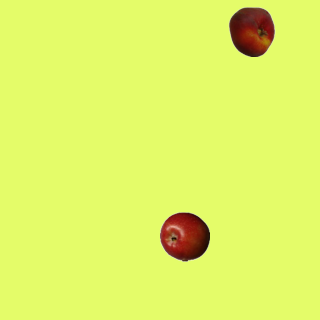Apple Braeburn: (159, 211, 209, 261)
Nectarine Flat: (226, 6, 276, 56)
